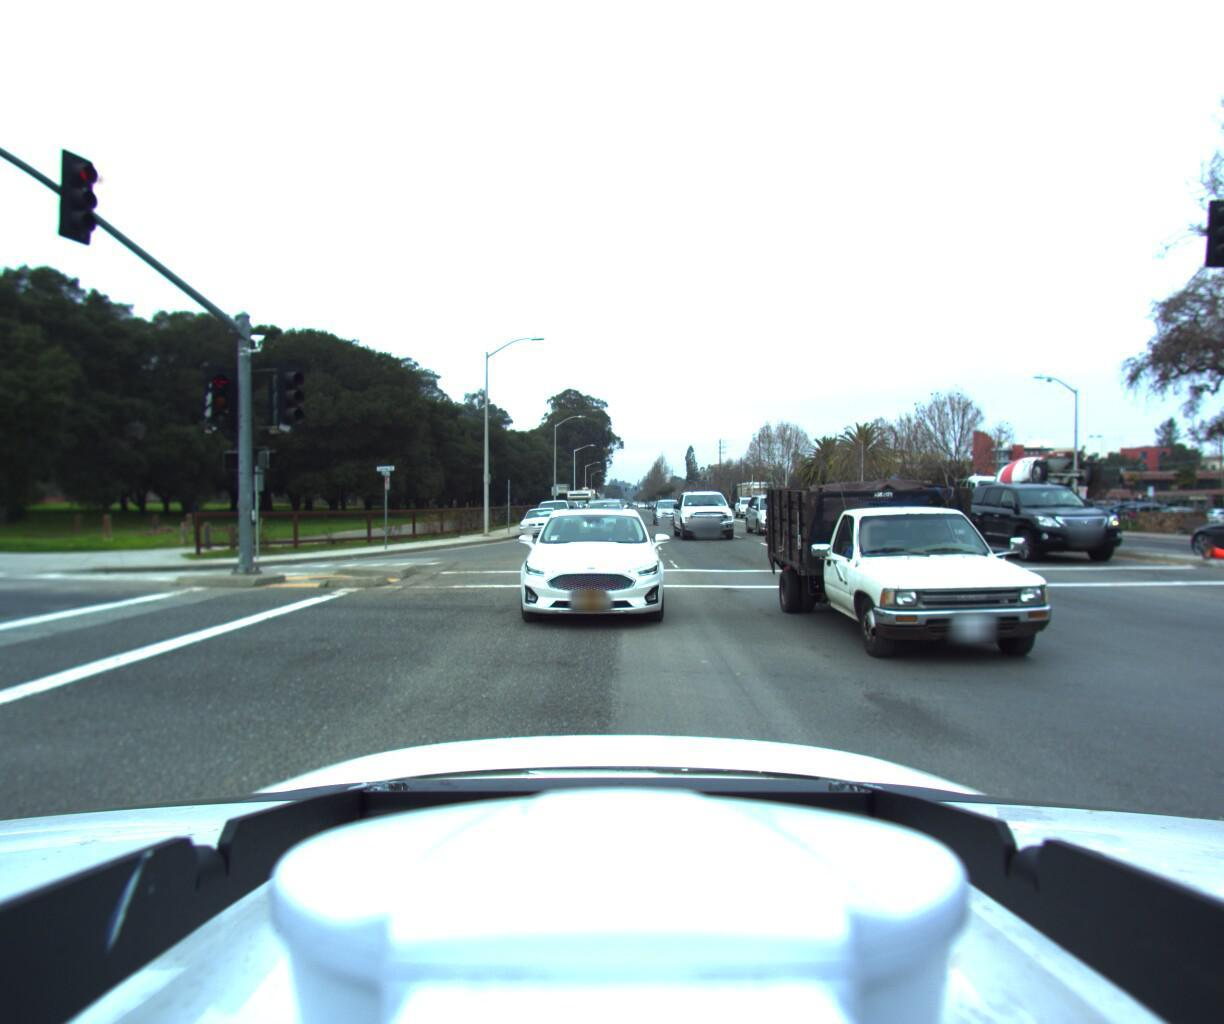bicycle: (507, 499, 518, 516)
car: (775, 438, 1194, 694), (499, 503, 665, 626), (952, 476, 1129, 562), (1143, 502, 1224, 564), (674, 489, 745, 542), (740, 492, 808, 537), (1078, 499, 1168, 527), (586, 497, 637, 543), (531, 498, 575, 530), (515, 505, 563, 535), (646, 499, 679, 525), (732, 496, 764, 520)
other_vehicle: (928, 450, 1088, 537), (562, 487, 594, 513)
